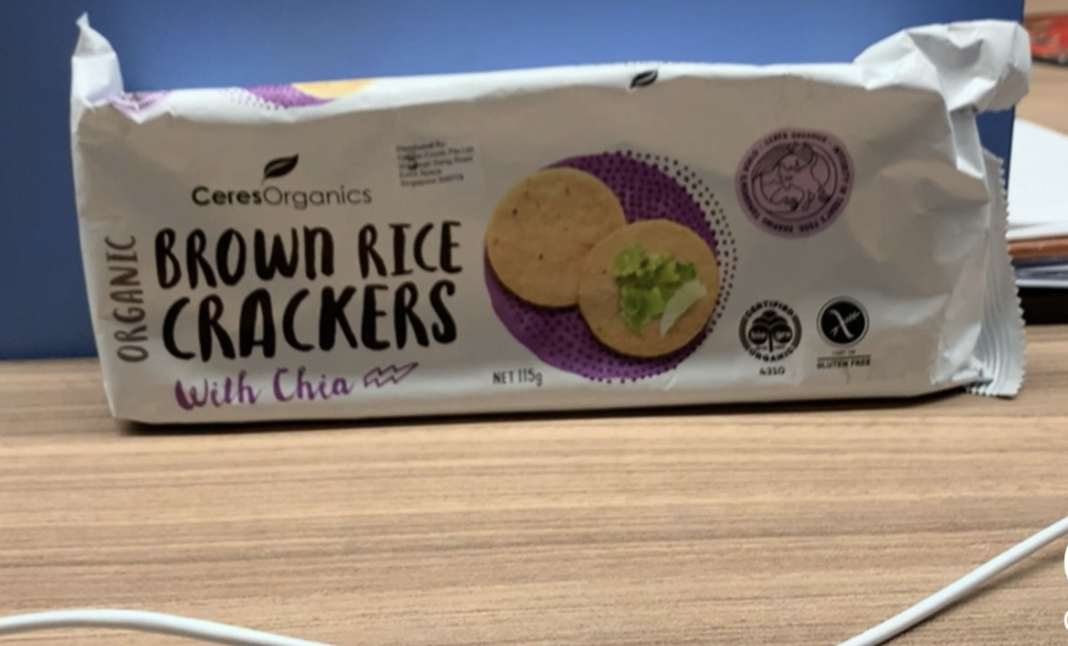crackers_150g: (99, 111, 962, 399)
